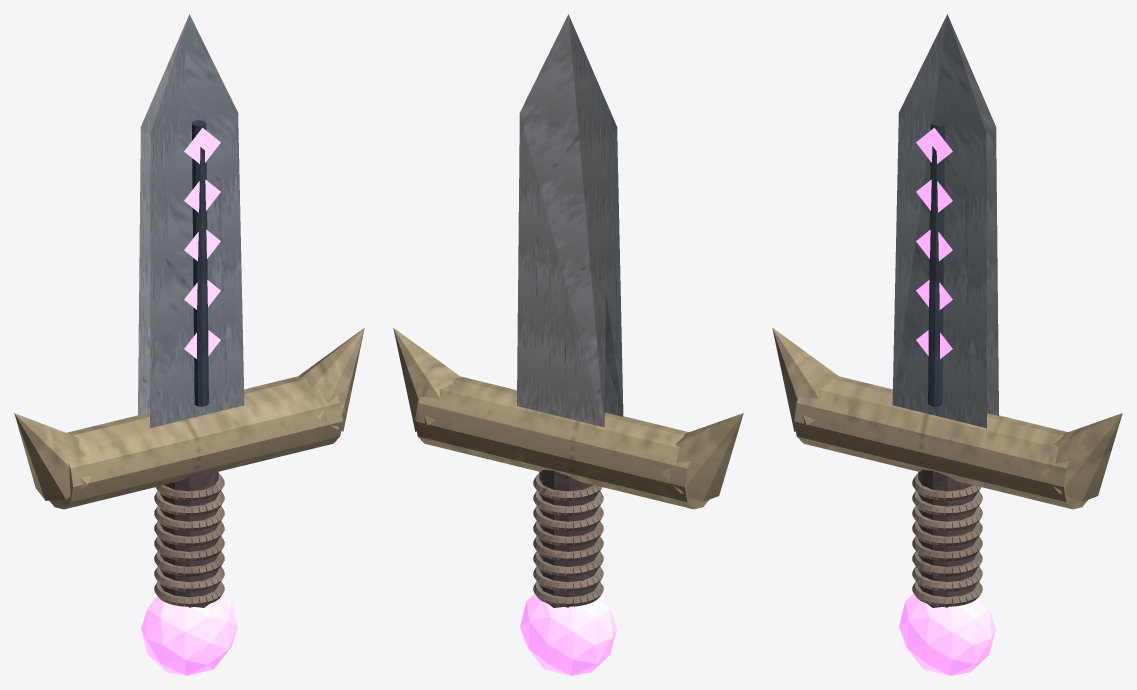
File: hero_runeblade.glb
3 views of the same model, side by side, from view 1: azimuth 30°, elevation 25°; view 2: azimuth 150°, elevation 25°; view 3: azimuth 330°, elevation 25° (orthographic).
Visible parts, largest first — view 1: steel, gold, glowviolet, bronze, silver, blackiron, leather; view 2: silver, gold, bronze, glowviolet, steel, leather; view 3: steel, gold, glowviolet, bronze, silver, blackiron, leather.
Boxes of the visible parts, x1,y1,x2,y2 form: steel: (150,14,244,428); gold: (14,328,364,509); glowviolet: (141,128,237,675); bronze: (154,473,224,606); silver: (138,16,188,415); blackiron: (192,120,208,406); leather: (160,470,218,607); silver: (517,14,607,427); gold: (393,328,743,509); bronze: (533,473,603,606); glowviolet: (520,593,616,675); steel: (569,16,623,416); leather: (539,470,597,607); steel: (892,14,986,428); gold: (772,328,1122,509); glowviolet: (899,128,995,675); bronze: (912,473,982,606); silver: (948,16,998,415); blackiron: (928,120,944,406); leather: (918,470,976,607).
Bounding box in the file's own units: 1.04 × 1.87 × 0.22.
7 materials, 7 textured.
